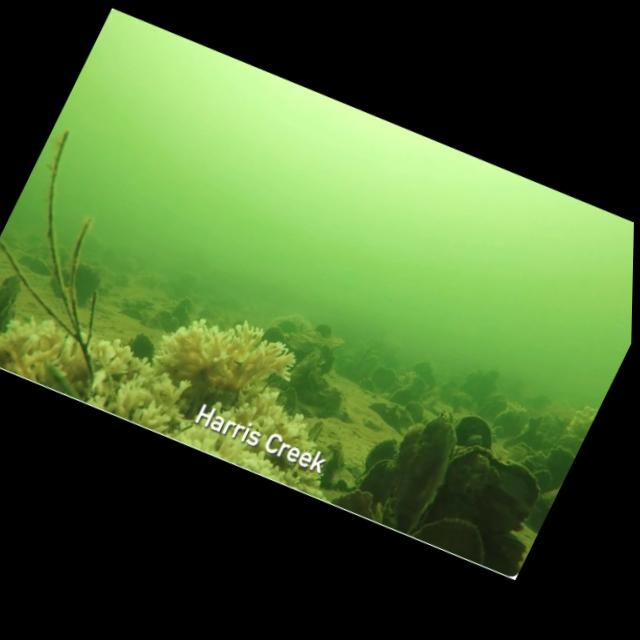Oyster-Closed: (14, 247, 58, 284), (121, 289, 155, 320)
Oyster-Indeterminate: (425, 428, 551, 547), (368, 419, 466, 533), (411, 498, 501, 573), (441, 403, 505, 461), (58, 256, 110, 316), (355, 449, 403, 505), (0, 263, 35, 337), (330, 480, 381, 525), (364, 429, 405, 477), (118, 328, 162, 372), (420, 410, 464, 454), (284, 342, 322, 389), (476, 388, 514, 433), (492, 405, 534, 444), (111, 295, 151, 334), (296, 353, 334, 394), (539, 443, 577, 484), (253, 318, 292, 356), (270, 382, 306, 421), (164, 302, 199, 342), (397, 395, 435, 431), (374, 400, 412, 436), (277, 323, 315, 357), (310, 379, 345, 414), (368, 361, 403, 396), (405, 352, 439, 388), (534, 474, 563, 513), (137, 304, 169, 339), (552, 425, 585, 457), (385, 380, 416, 412), (353, 373, 384, 404), (149, 302, 179, 334), (316, 327, 346, 357), (529, 464, 557, 492), (513, 452, 541, 478), (461, 429, 487, 454), (504, 442, 529, 467), (301, 324, 327, 346), (366, 394, 390, 417), (526, 447, 550, 470), (175, 292, 198, 315), (111, 267, 134, 290), (162, 314, 183, 338), (373, 382, 394, 405), (487, 421, 508, 442), (0, 263, 2, 317)
Oyster-Open: (308, 437, 358, 495), (303, 418, 329, 449)
